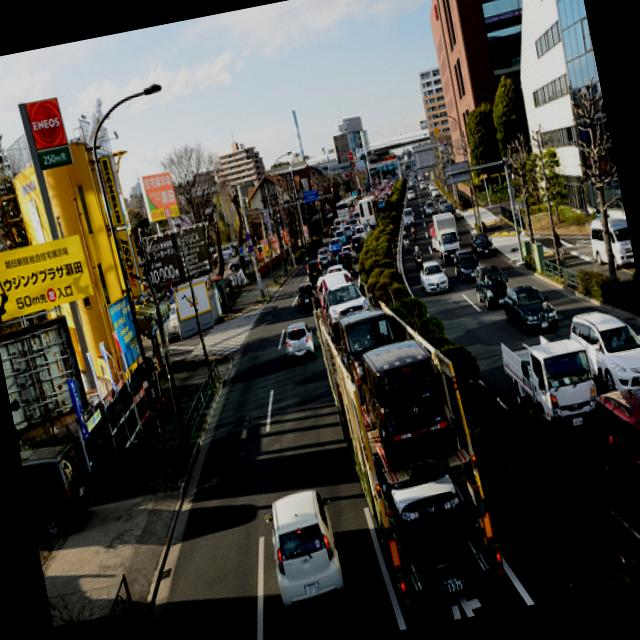Vehicle: (0, 132, 640, 640), (356, 333, 462, 472), (499, 327, 602, 437), (582, 382, 640, 576), (260, 484, 349, 610), (19, 437, 99, 539), (564, 298, 640, 399), (500, 278, 562, 339), (471, 260, 514, 312), (280, 318, 320, 367), (430, 210, 466, 264), (604, 215, 636, 271), (418, 259, 450, 295), (356, 194, 382, 226), (334, 194, 362, 222), (294, 282, 318, 313), (304, 260, 324, 286), (315, 245, 336, 268), (328, 237, 345, 254), (414, 254, 425, 272), (402, 237, 413, 253), (409, 224, 418, 241), (344, 224, 353, 238)
